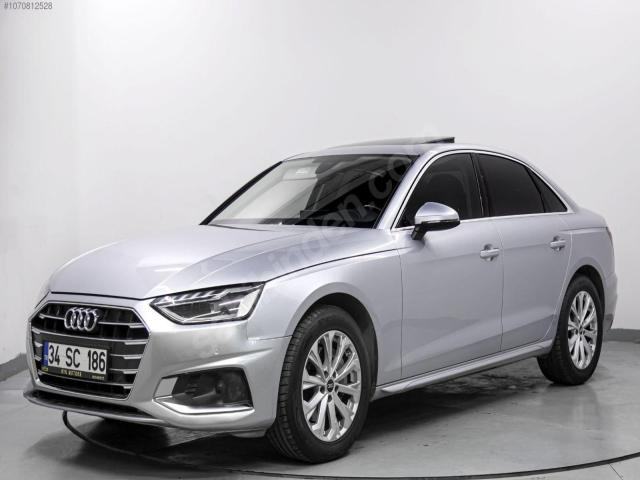plaka: (41, 341, 108, 381)
